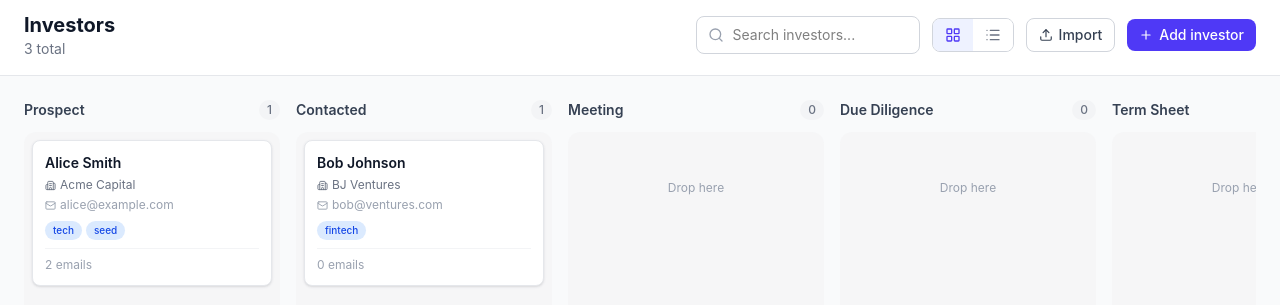
InvestorsPage › switches between kanban and list view
Click the button titled "List view" at (993, 35), box [973,19,1013,51]
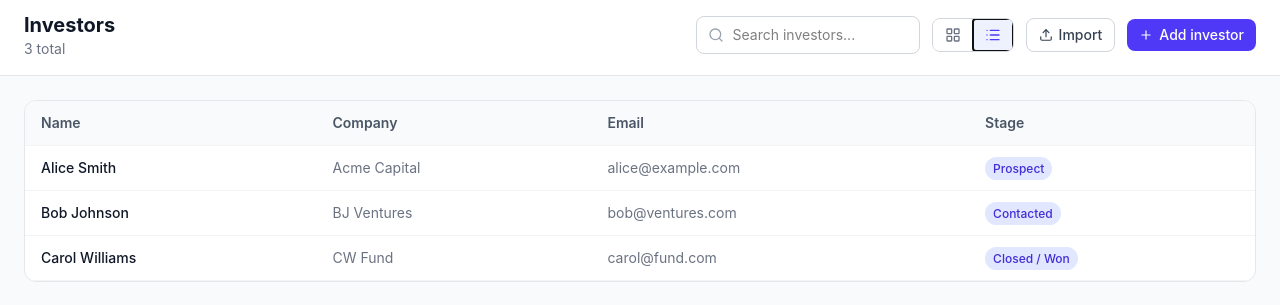
Expected: the table is shown, [25,101,1255,281]
Click the button titled "Kanban view" at (953, 35), box [933,19,973,51]
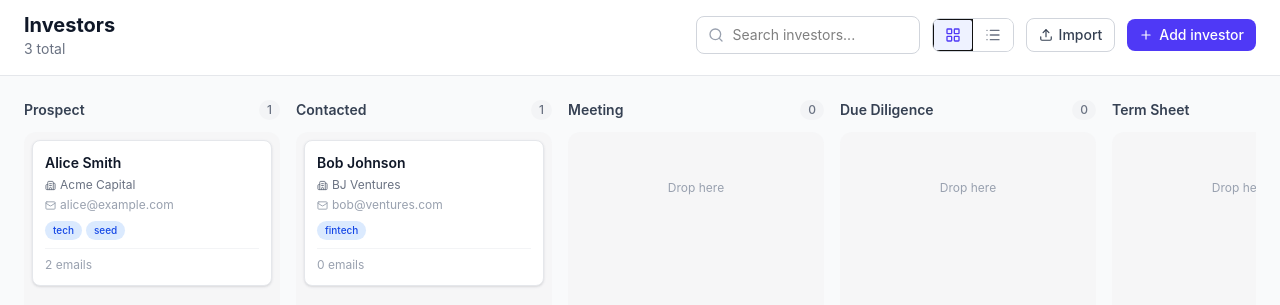
Expected: the table is gone
